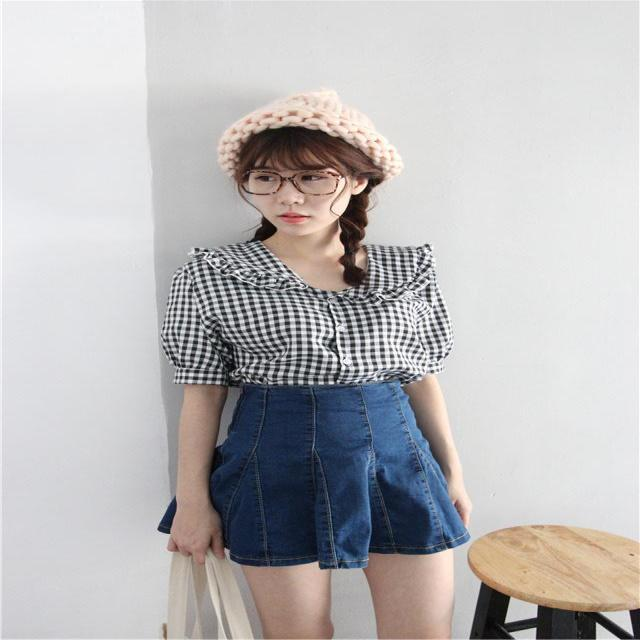short sleeve top: (167, 245, 448, 386)
skirt: (157, 383, 468, 568)
